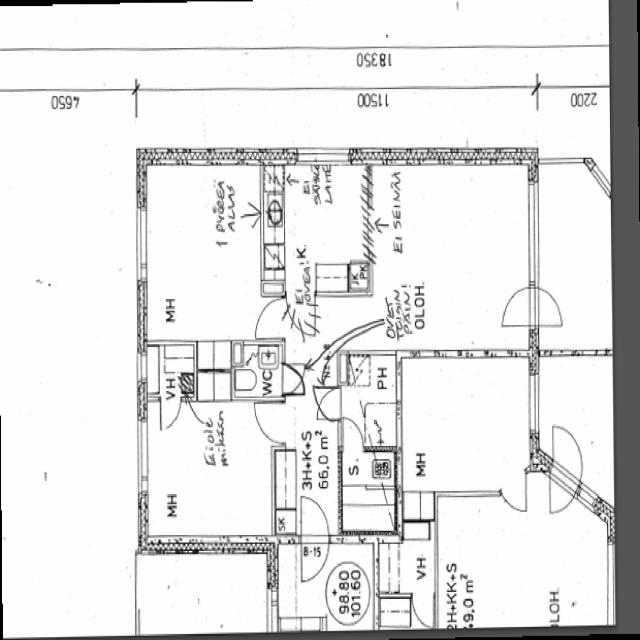door: (298, 492, 331, 582), (547, 418, 584, 485), (250, 397, 290, 447), (252, 294, 287, 342), (533, 281, 566, 331), (500, 280, 533, 330), (498, 468, 528, 516), (546, 472, 576, 514), (314, 383, 344, 422), (157, 394, 184, 433), (338, 414, 365, 452), (411, 591, 437, 629), (282, 363, 306, 396)
window: (524, 176, 544, 288), (132, 200, 152, 284), (134, 412, 153, 500), (604, 530, 617, 626), (296, 146, 354, 166), (527, 369, 543, 438), (430, 521, 440, 597), (134, 348, 149, 386), (413, 346, 442, 360)
zone: (372, 164, 534, 349), (139, 163, 268, 347), (437, 496, 612, 630), (139, 391, 279, 548), (399, 356, 533, 493), (533, 152, 612, 349), (264, 160, 372, 294), (138, 552, 272, 636), (342, 349, 399, 448), (376, 538, 436, 628), (339, 446, 398, 535), (326, 541, 374, 630), (232, 338, 284, 402), (144, 342, 196, 399)
